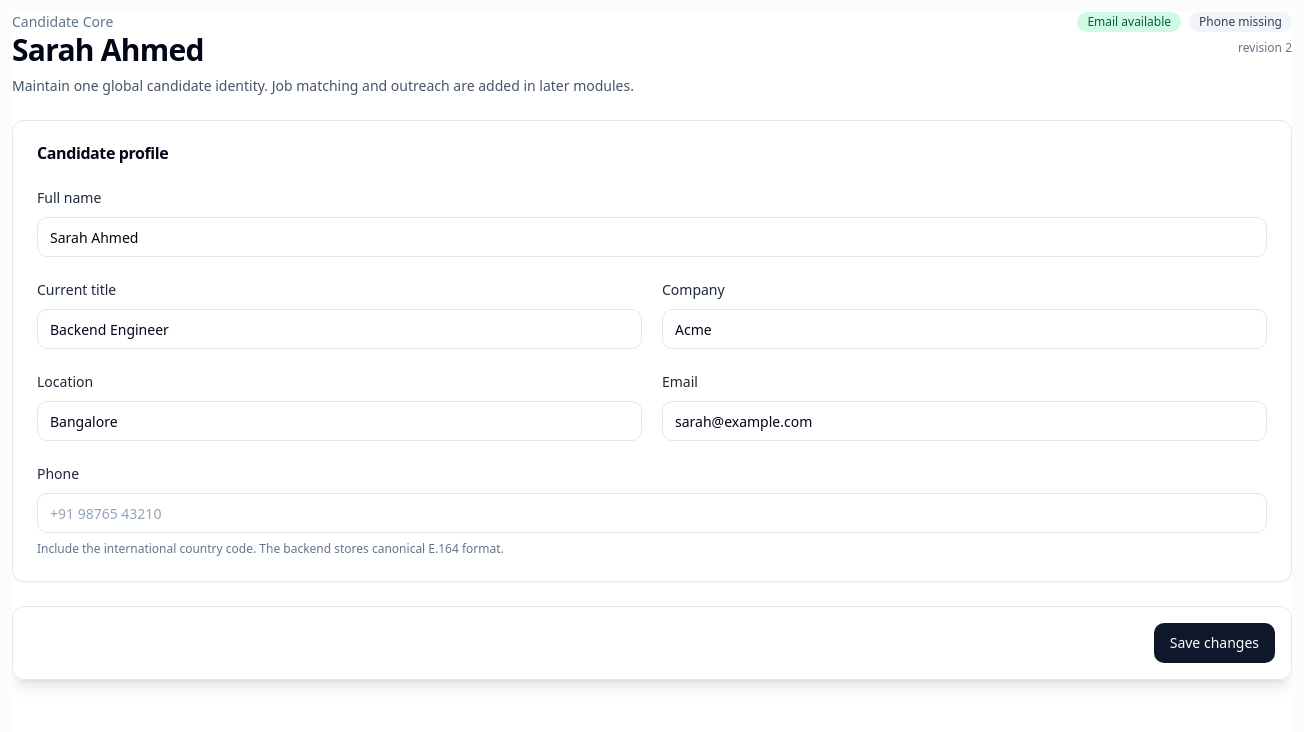
Scenario: CandidateEditor › uses the loaded revision when saving Candidate profile changes
This screenshot has width=1304, height=732.
In the field labelled "Current title": (340, 329) [37,309,642,349], type "Senior Backend Engineer"
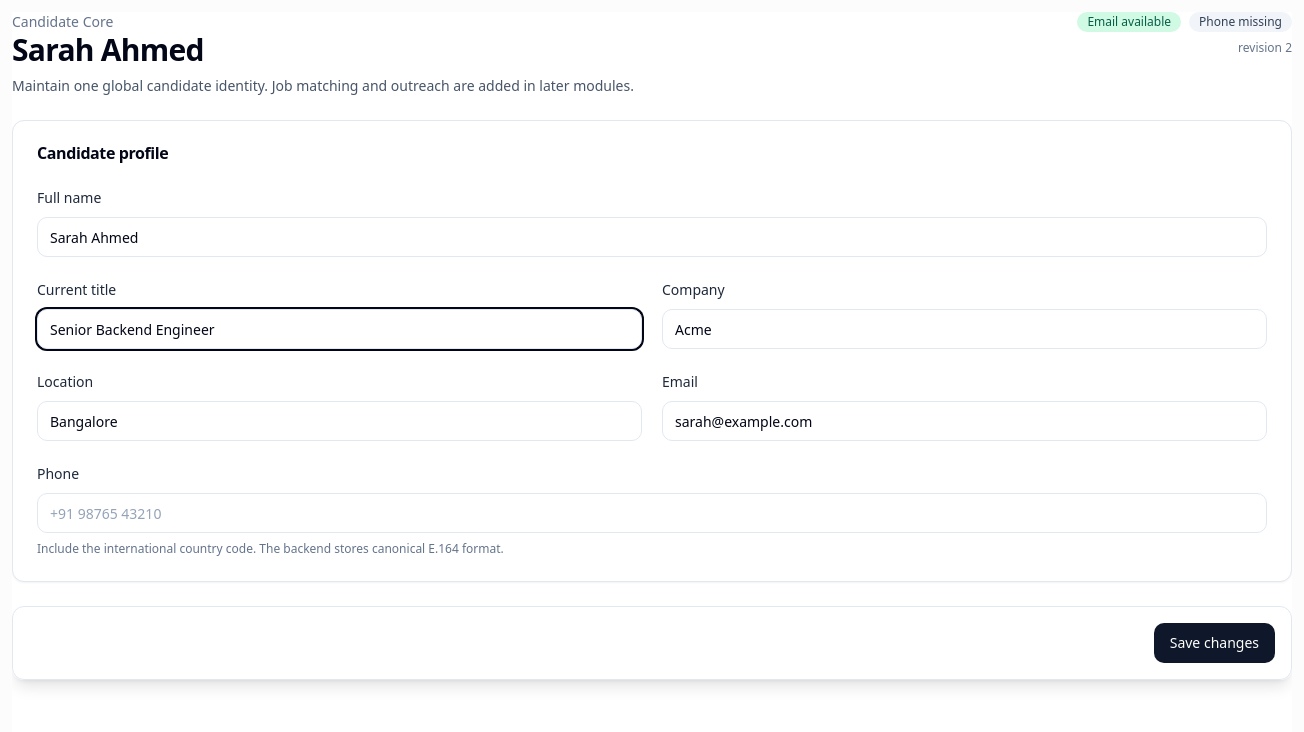
Click the button "Save changes": (1214, 643) [1154,623,1275,663]
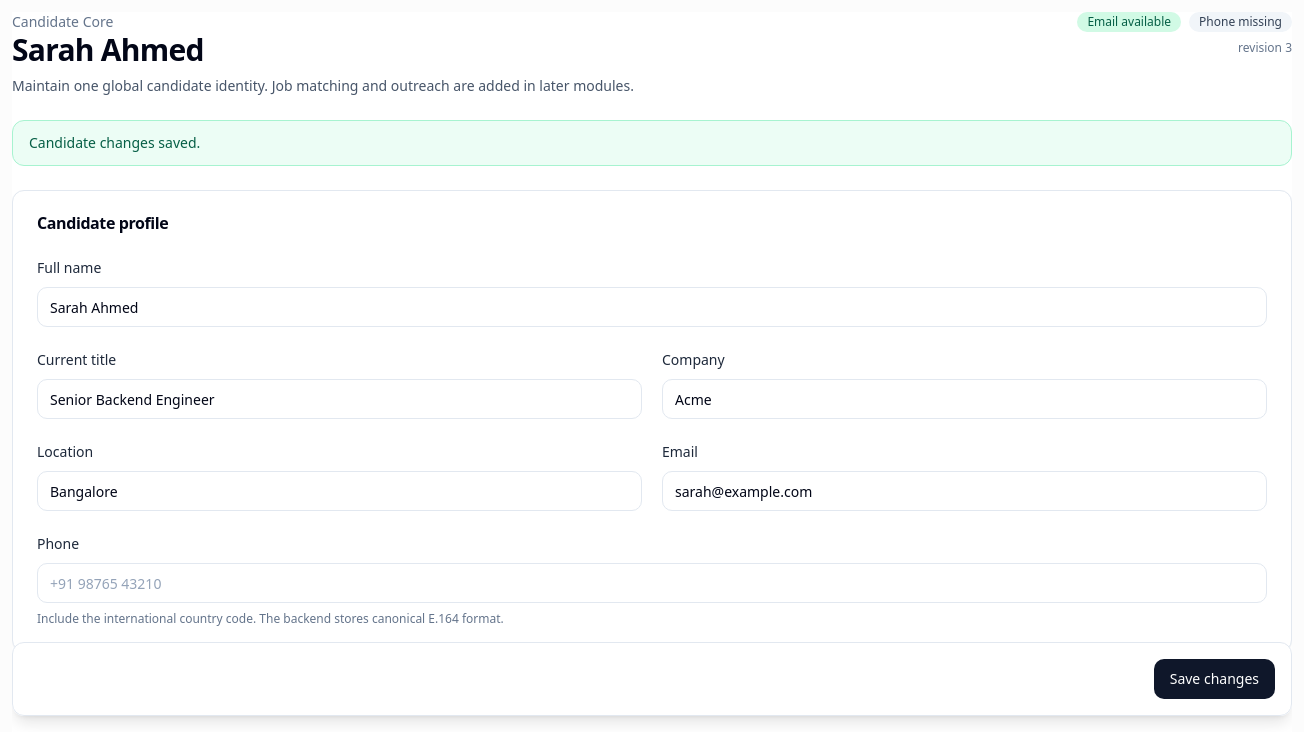
Expected: the text "Candidate changes saved." is shown, [12,120,1292,166]
